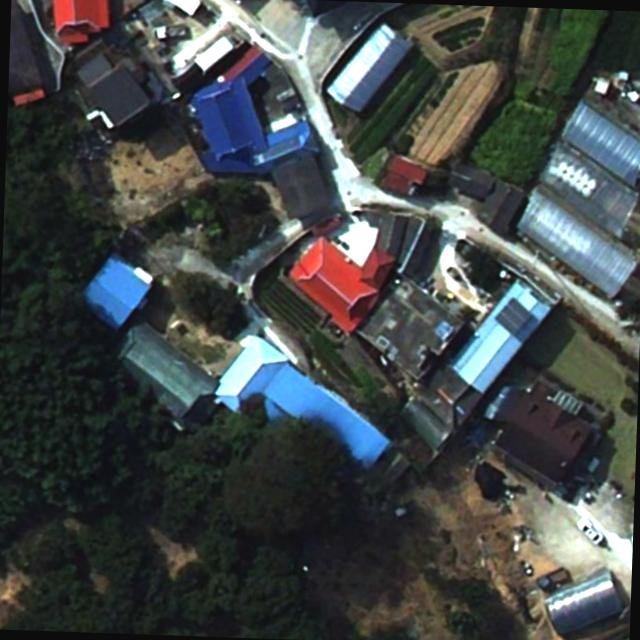solar: (496, 296, 533, 336)
